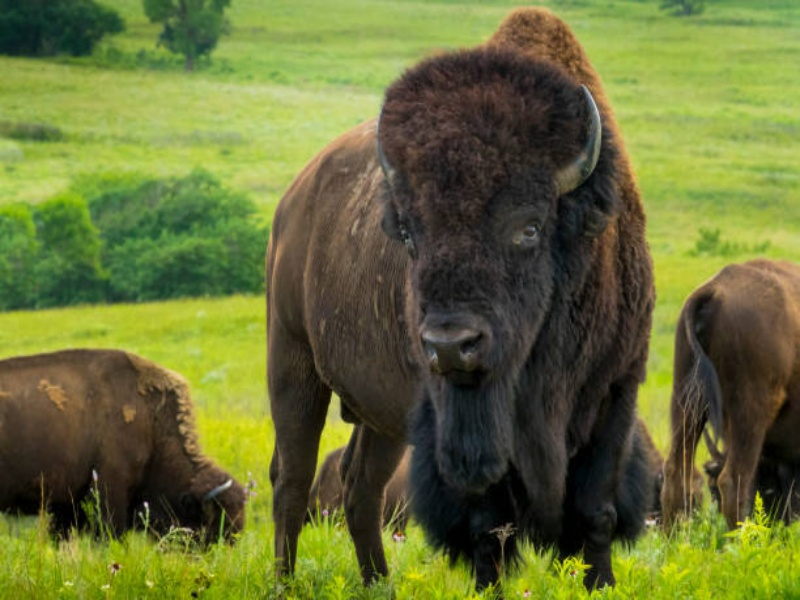buffalo: (243, 14, 666, 599)
